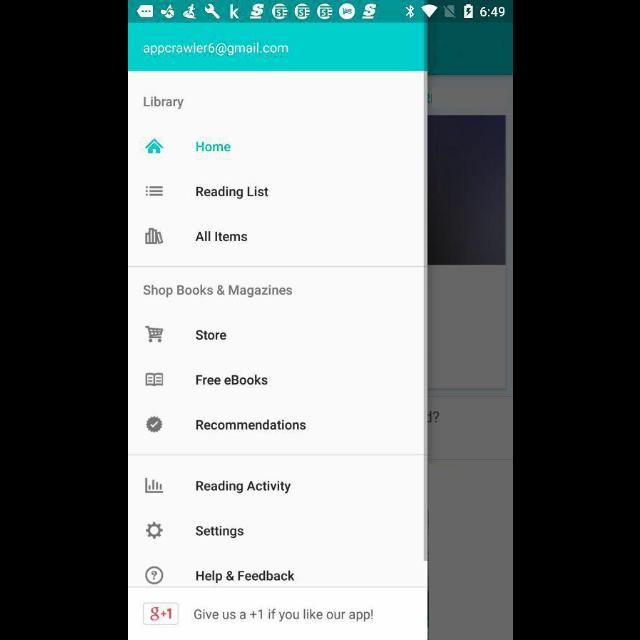icon: (142, 603, 178, 625), (144, 566, 164, 584), (144, 326, 164, 344), (144, 228, 164, 246), (145, 416, 163, 434), (144, 478, 164, 494), (144, 138, 164, 154), (145, 522, 163, 538), (144, 373, 164, 387), (145, 186, 163, 198)
panel: (128, 24, 428, 640)
text: (194, 608, 372, 622), (142, 284, 292, 298), (142, 43, 288, 57), (196, 569, 294, 583), (195, 480, 291, 494), (194, 419, 306, 431), (195, 186, 269, 200), (195, 374, 267, 386), (194, 525, 243, 539), (195, 231, 248, 243), (142, 96, 184, 110), (194, 329, 226, 341), (196, 142, 230, 152)
uppertaskbar: (128, 1, 512, 23)
